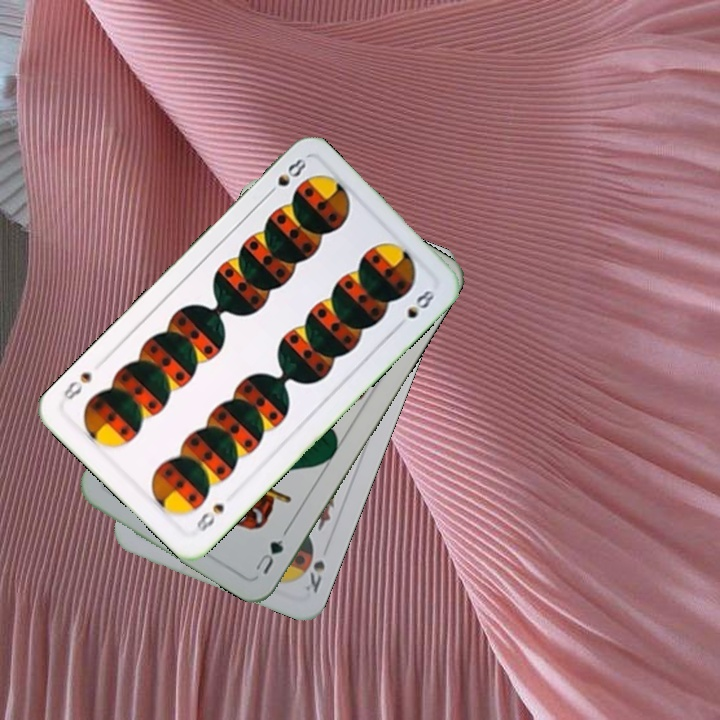GU: (250, 526, 290, 577)
S8: (261, 154, 309, 201), (192, 499, 227, 539)
SK: (301, 556, 328, 596)
